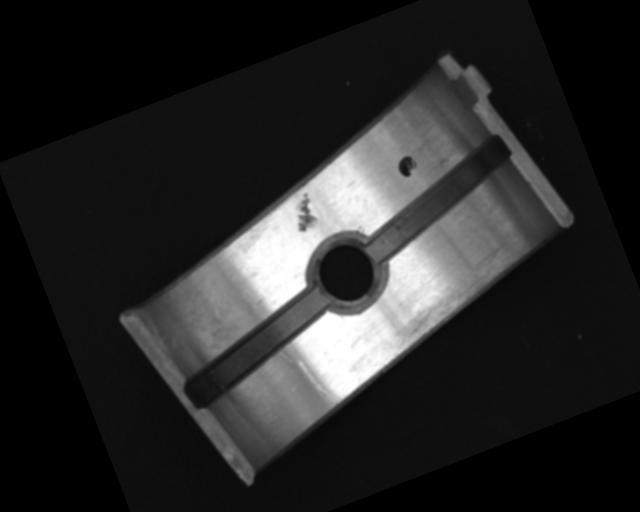blot: (394, 152, 419, 179)
bruise: (286, 191, 322, 234)
gap: (346, 132, 532, 266), (168, 285, 345, 410)
hole: (300, 228, 397, 321)
nick: (298, 352, 342, 413)
scratch: (371, 240, 536, 357)
